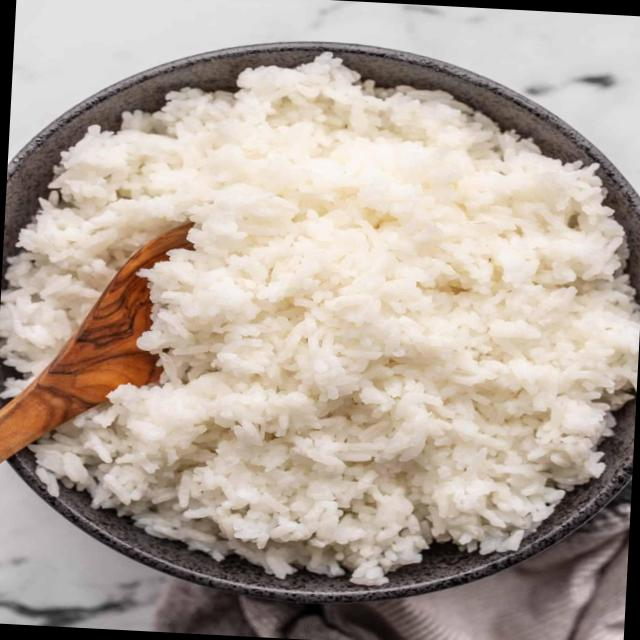rice: (0, 64, 632, 580)
